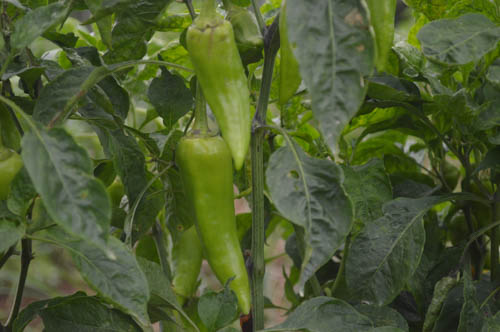ChiliPepper: (179, 134, 253, 314), (187, 24, 254, 167), (272, 15, 307, 108), (159, 234, 202, 304)
